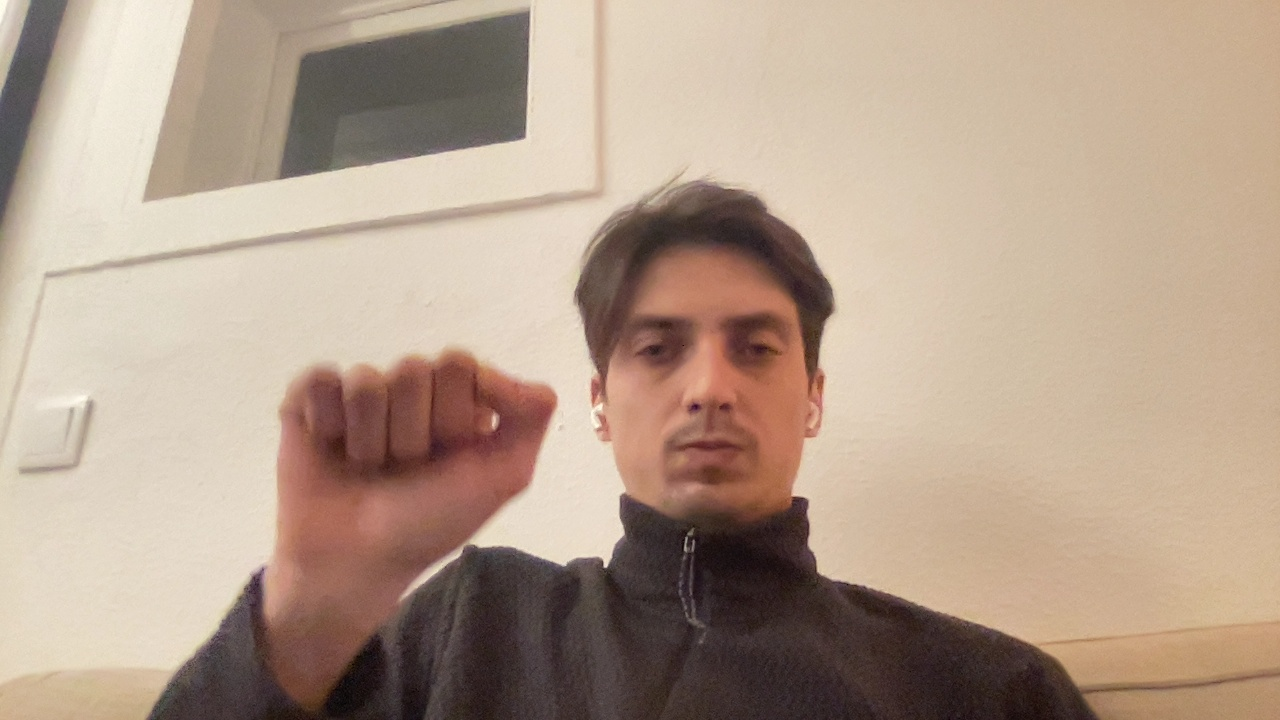Yes: (220, 282, 568, 638)
